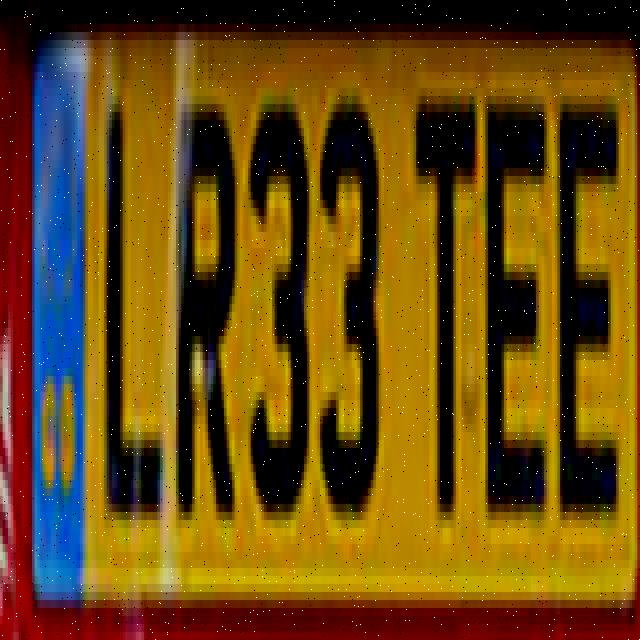licenseplate: (31, 14, 638, 604)
